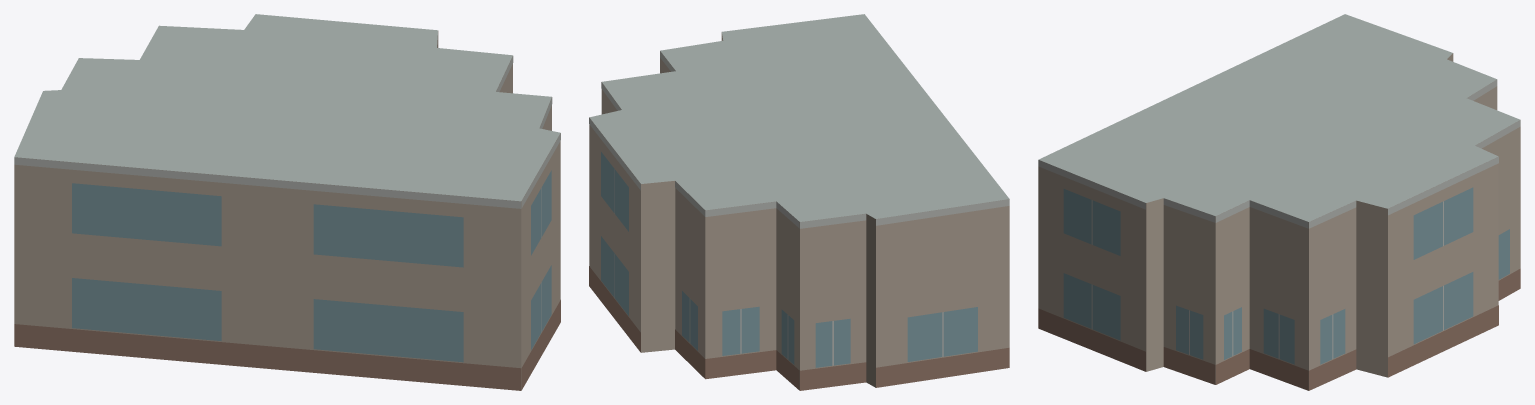
Rendered from survey-upis-32606340.glb.
3 views of the same model, side by side, from view 1: azimuth 30°, elevation 25°; view 2: azimuth 150°, elevation 25°; view 3: azimuth 270°, elevation 25° (orthographic). The views are drawn at different scales.
Parts seen in each view (by area): view 1: survey-upis-32606340.tmp; view 2: survey-upis-32606340.tmp; view 3: survey-upis-32606340.tmp.
Boxes of the visible parts, bbox=[...] form: survey-upis-32606340.tmp: bbox=[14, 14, 560, 390]; survey-upis-32606340.tmp: bbox=[589, 14, 1009, 390]; survey-upis-32606340.tmp: bbox=[1038, 14, 1520, 390].
Bounding box in the file's own units: 16.13 × 6.1 × 15.8.
